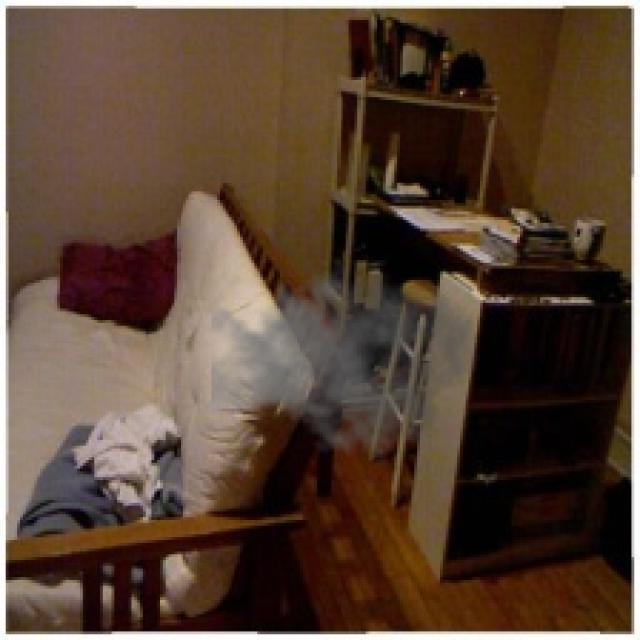Smoke: (211, 248, 480, 463)
